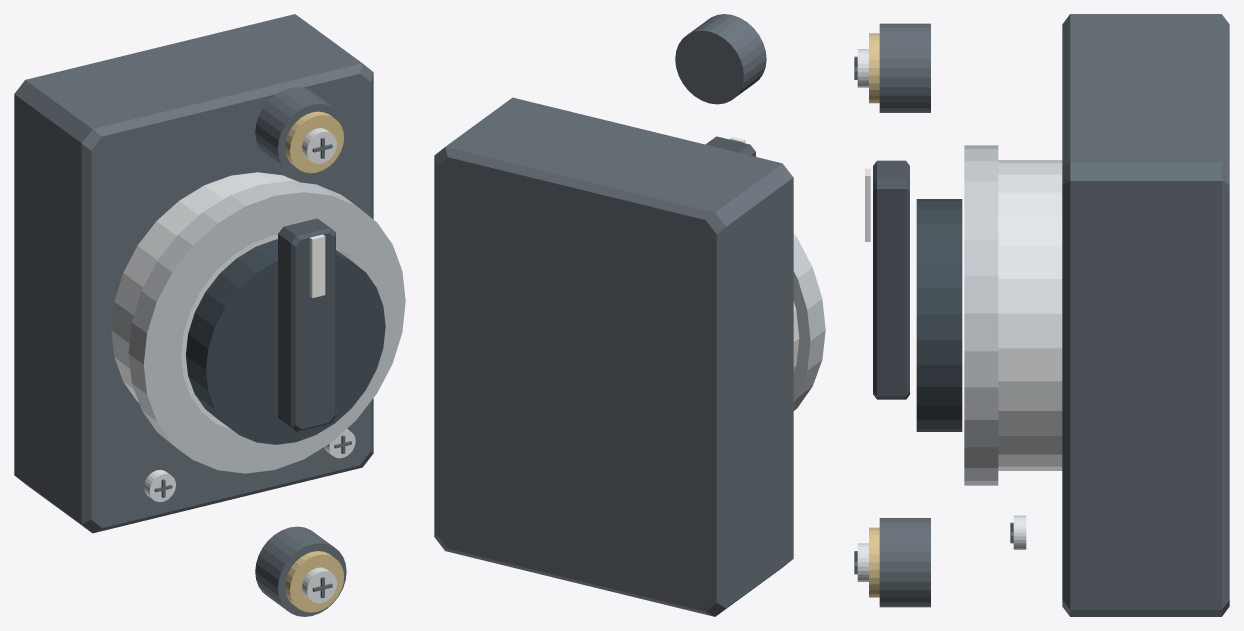
File: selectorSwitch.glb
The picture shows the model from 3 angles, left to right: view 1: azimuth 30°, elevation 25°; view 2: azimuth 150°, elevation 25°; view 3: azimuth 270°, elevation 25°; orthographic projection. The views are drawn at different scales.
Visible parts, largest first — view 1: selectorSwitch-detailed; view 2: selectorSwitch-detailed; view 3: selectorSwitch-detailed.
Boxes of the visible parts, x1,y1,x2,y2 form: selectorSwitch-detailed: (14, 14, 405, 616); selectorSwitch-detailed: (434, 14, 825, 616); selectorSwitch-detailed: (854, 14, 1229, 616).
Size of the model in its own units: 1.33 by 2.23 by 1.32.
